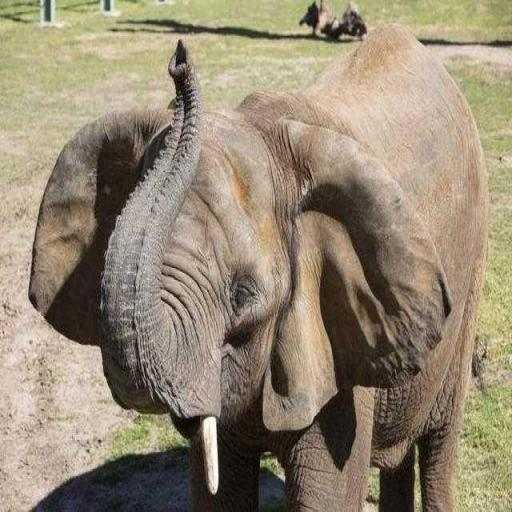Elephant: (27, 20, 489, 511)
